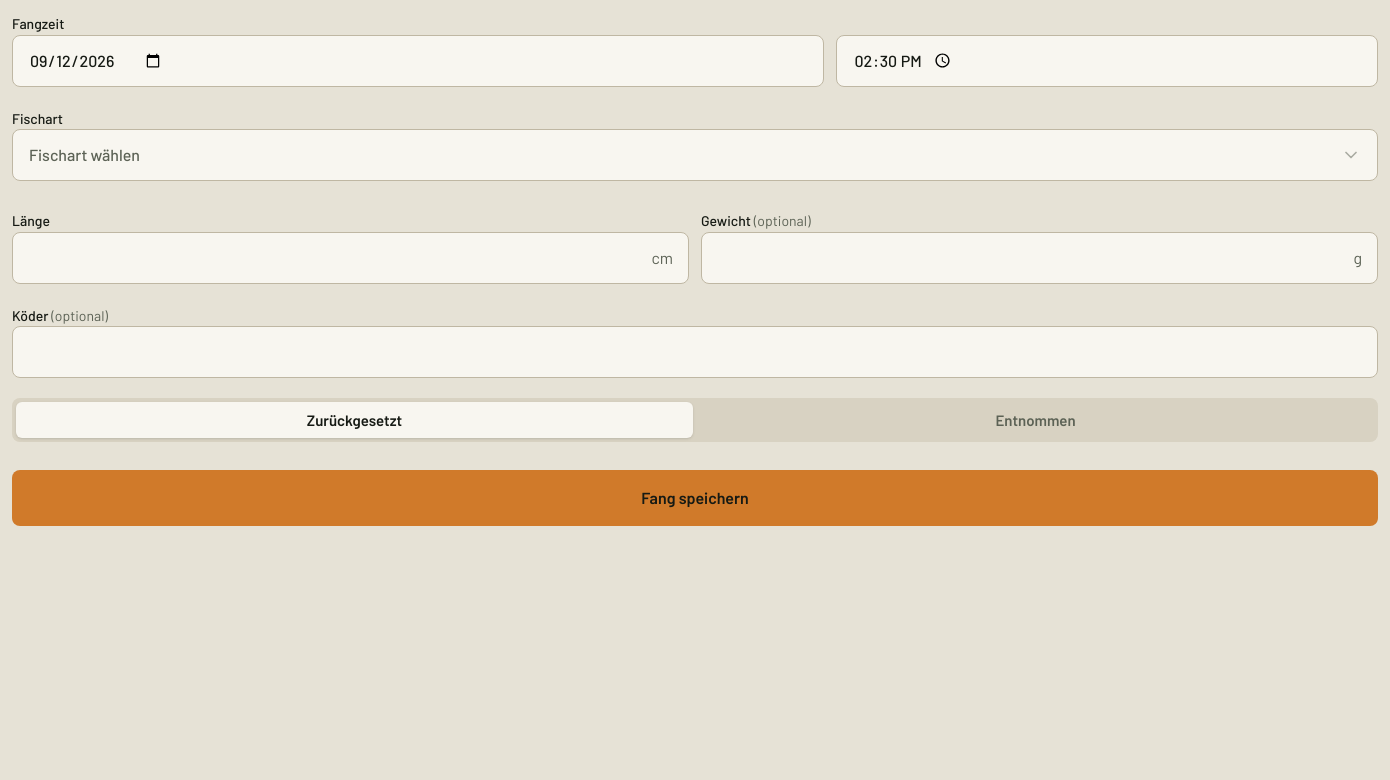
Test case: CatchForm — Fang eintragen (running session) › shows the browser check at the fields and sends nothing
Type "251" into the field labelled "Länge" at (350, 258), box [12,232,689,284]
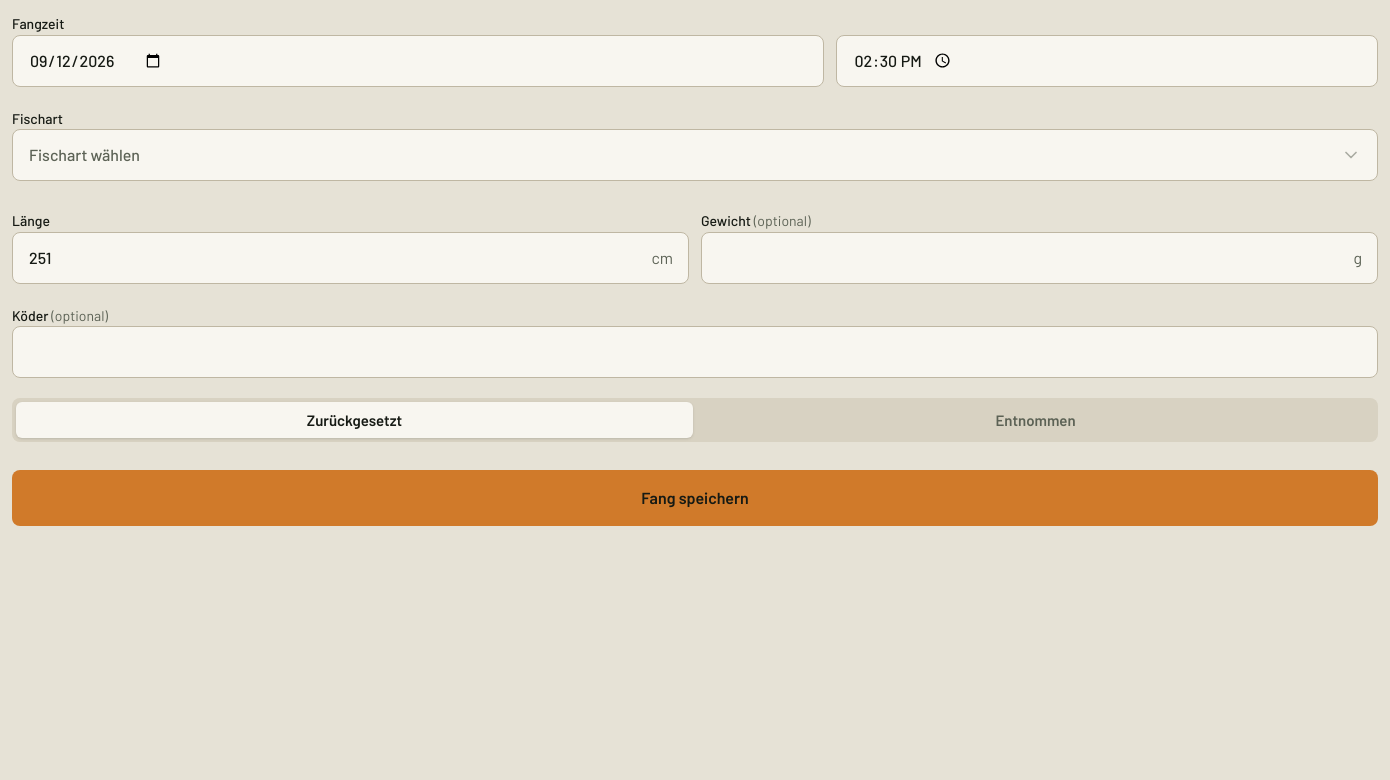
Click the button "Fang speichern" at (695, 498), box [12,470,1378,526]
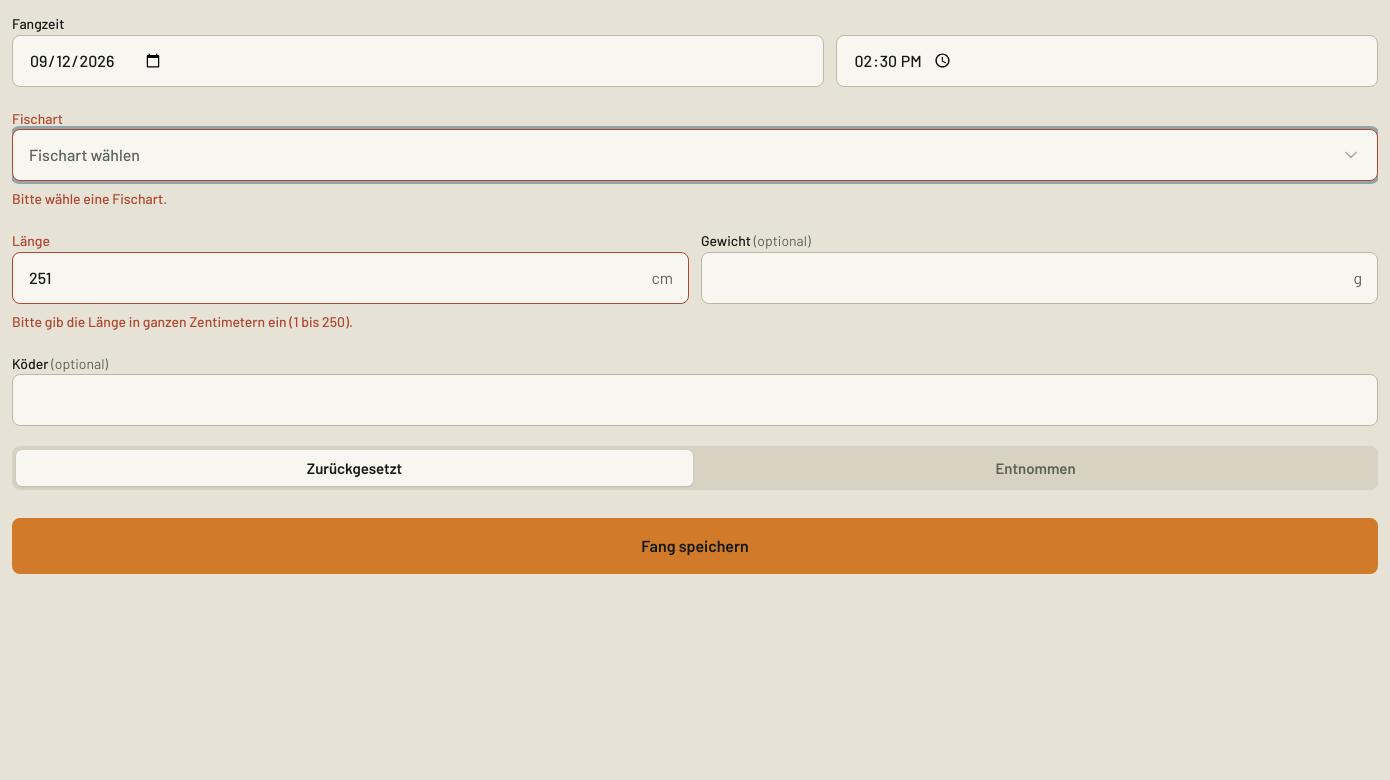
Check: the text "Bitte wähle eine Fischart." is shown, box [12,190,167,207]
Check: the text "Bitte gib die Länge in ganzen Zentimetern ein (1 bis 250)." is shown, box [12,312,353,330]
